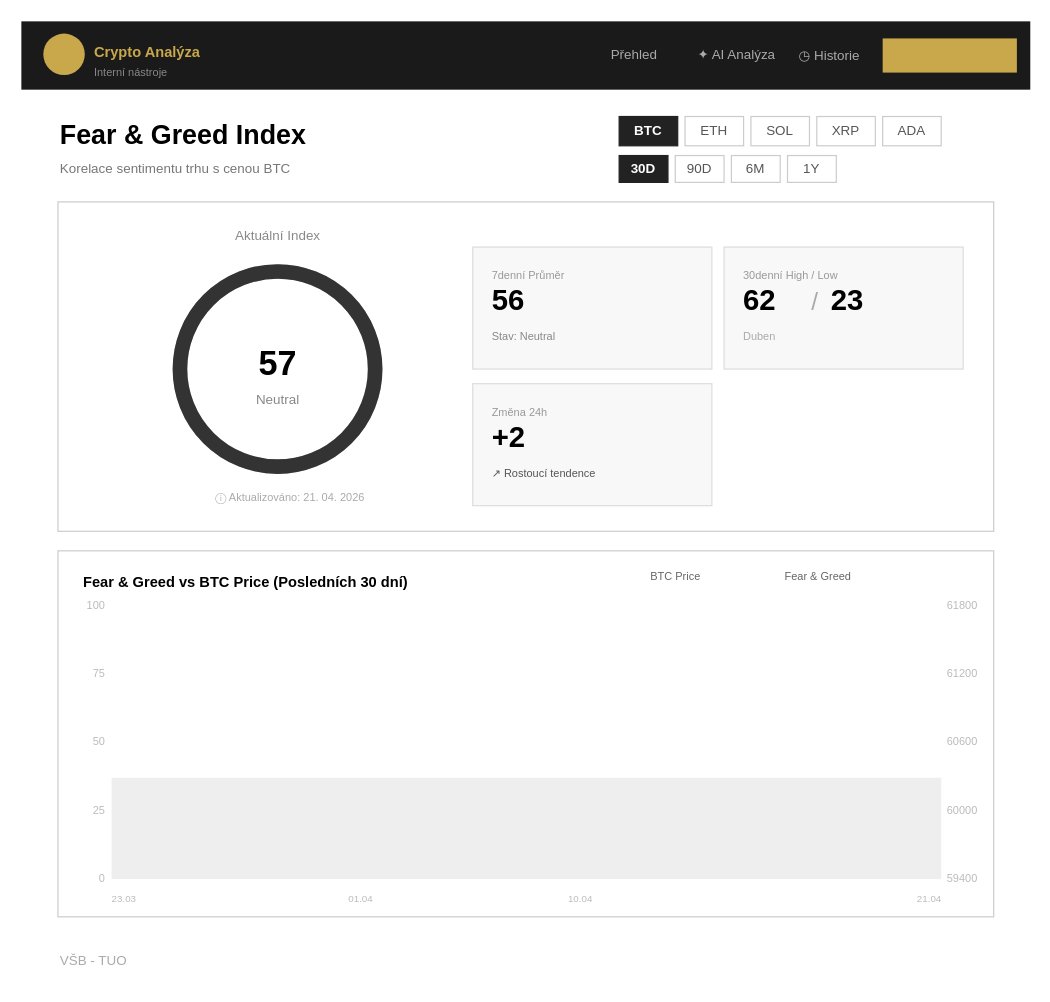
This 1050x1002 diagram has some shape labels left out. The box of each missing label's shape, as (x1, y1, x2, y2) in pixels:
SB: (43, 33, 84, 74)
↗ Fear & Greed: (882, 38, 1016, 72)
